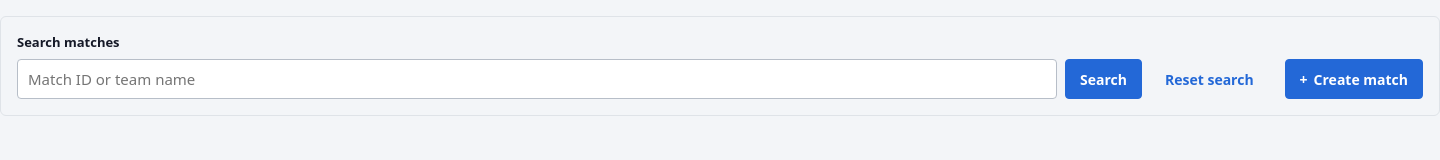
MatchesToolbar › submits and resets a free-text search
The width and height of the screenshot is (1440, 160).
Type "Mexico" into the search field labelled "Search matches" at (537, 79), box left=17, top=58, right=1057, bottom=99
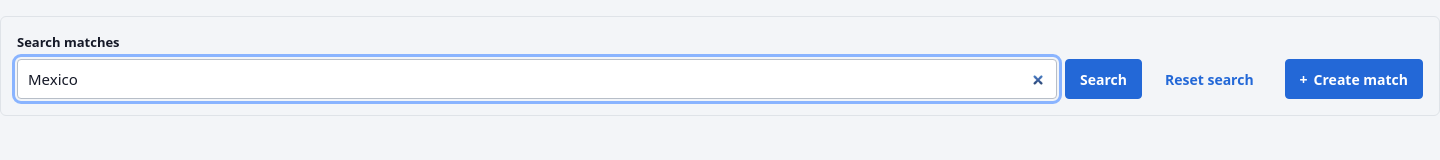
Click the button "Search" at (1103, 79), box left=1065, top=59, right=1142, bottom=99
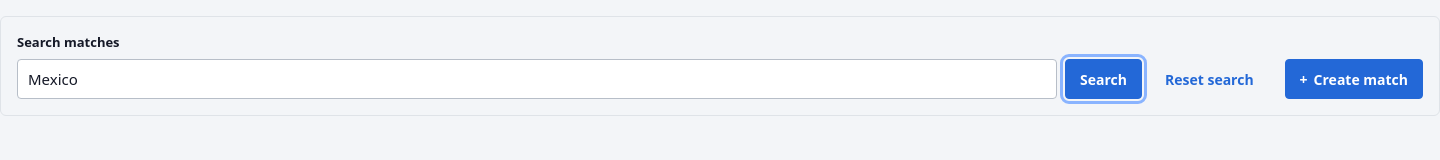
Click the button "Reset search" at (1209, 79), box left=1150, top=59, right=1269, bottom=99
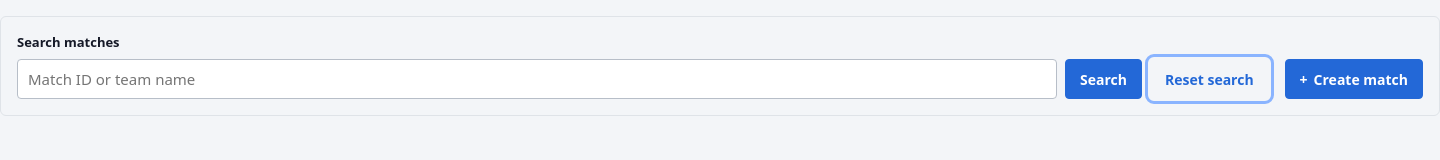
Check: the search field labelled "Search matches" is empty, box left=17, top=58, right=1057, bottom=99
